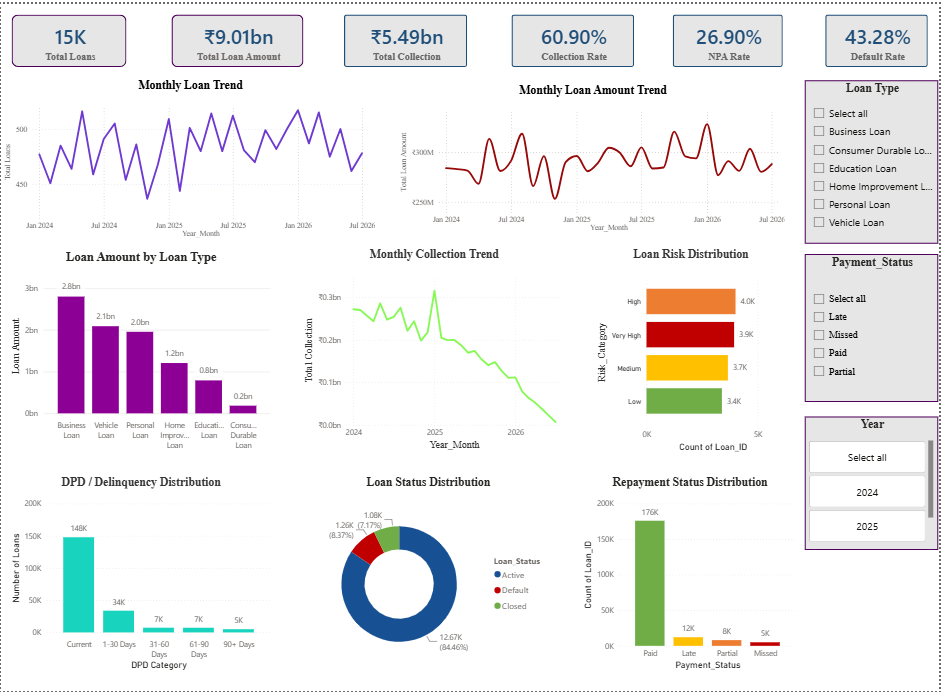

The page's visual inventory and layout, read from the dashboard file:
{"tool":"powerbi","page":{"name":"Executive Overview","canvas":[1500,1100],"ordinal":0},"visuals":[{"type":"cardVisual","fields":{"Data":["Loan.Total Loans"]},"box":[0,0,218.6,118.6],"z":0},{"type":"cardVisual","fields":{"Data":["Loan.Total Loan Amount"]},"box":[255.7,0,245,118.3],"z":1000},{"type":"cardVisual","fields":{"Data":["Repayment.Total Collection"]},"box":[532.9,0,231.7,118.3],"z":2000},{"type":"cardVisual","fields":{"Data":["Repayment.Collection Rate"]},"box":[800,0,230,118.6],"z":3000},{"type":"cardVisual","fields":{"Data":["Loan_Risk.NPA Rate"]},"box":[1058.6,0,210,118.6],"z":4000},{"type":"cardVisual","fields":{"Data":["Loan_Risk.Default Rate"]},"box":[1301.7,0,198.3,118.3],"z":5000},{"type":"lineChart","title":"Monthly Loan Trend","fields":{"Category":["Date.Year_Month"],"Y":["Loan.Total Loans"]},"box":[0,118.3,605,261.7],"z":6000},{"type":"lineChart","title":"Monthly Loan Amount Trend","fields":{"Category":["Date.Year_Month"],"Y":["Loan.Total Loan Amount"]},"box":[623.3,118.3,645,261.7],"z":7000},{"type":"donutChart","title":"Loan Status Distribution","fields":{"Category":["Loan.Loan_Status"],"Y":["CountNonNull(Loan.Loan_ID)"]},"box":[470,743.3,425.7,337.1],"z":8000},{"type":"clusteredBarChart","title":"Loan Risk Distribution","fields":{"Category":["Loan_Risk.Risk_Category"],"Y":["CountNonNull(Loan_Risk.Loan_ID)"]},"box":[938.3,380,330,351.7],"z":9000},{"type":"lineClusteredColumnComboChart","title":"Loan Amount by Loan Type","fields":{"Category":["Loan.Loan_Type"],"Y":["Sum(Loan.Loan_Amount)"]},"box":[0,383.3,446.7,348.3],"z":10000},{"type":"lineChart","title":"Monthly Collection Trend","fields":{"Category":["Date.Year_Month"],"Y":["Repayment.Total Collection"]},"box":[470,380,445,348.3],"z":11000},{"type":"clusteredColumnChart","title":"DPD / Delinquency Distribution","fields":{"Category":["Repayment.DPD Category"],"Y":["CountNonNull(Repayment.Loan_ID)"]},"box":[0,743.3,446.7,336.7],"z":12000},{"type":"clusteredColumnChart","title":"Repayment Status Distribution","fields":{"Category":["Repayment.Payment_Status"],"Y":["CountNonNull(Repayment.Loan_ID)"]},"box":[915,743.3,371.4,337.1],"z":13000},{"type":"advancedSlicerVisual","fields":{"Values":["Date.Year"]},"box":[1286.7,660,213.3,213.3],"z":14000},{"type":"slicer","title":"Loan Type","fields":{"Values":["Loan.Loan_Type"]},"box":[1286.7,121.7,213.3,261.7],"z":15000},{"type":"slicer","title":"Payment_Status","fields":{"Values":["Repayment.Payment_Status"]},"box":[1286.7,400,213.3,236.7],"z":16000}]}

Visuals, with their boxes in screenshot pixels (x1, y1, x2, y2), scaled from the page's 1500x1100 canvas onto the 941x692 screenshot:
cardVisual - Loan.Total Loans: x1=0, y1=0, x2=137, y2=75
cardVisual - Loan.Total Loan Amount: x1=160, y1=0, x2=314, y2=74
cardVisual - Repayment.Total Collection: x1=334, y1=0, x2=480, y2=74
cardVisual - Repayment.Collection Rate: x1=502, y1=0, x2=646, y2=75
cardVisual - Loan_Risk.NPA Rate: x1=664, y1=0, x2=796, y2=75
cardVisual - Loan_Risk.Default Rate: x1=817, y1=0, x2=940, y2=74
"Monthly Loan Trend" lineChart: x1=0, y1=74, x2=380, y2=239
"Monthly Loan Amount Trend" lineChart: x1=391, y1=74, x2=796, y2=239
"Loan Status Distribution" donutChart: x1=295, y1=468, x2=562, y2=680
"Loan Risk Distribution" clusteredBarChart: x1=589, y1=239, x2=796, y2=460
"Loan Amount by Loan Type" lineClusteredColumnComboChart: x1=0, y1=241, x2=280, y2=460
"Monthly Collection Trend" lineChart: x1=295, y1=239, x2=574, y2=458
"DPD / Delinquency Distribution" clusteredColumnChart: x1=0, y1=468, x2=280, y2=679
"Repayment Status Distribution" clusteredColumnChart: x1=574, y1=468, x2=807, y2=680
advancedSlicerVisual - Date.Year: x1=807, y1=415, x2=940, y2=549
"Loan Type" slicer: x1=807, y1=77, x2=940, y2=241
"Payment_Status" slicer: x1=807, y1=252, x2=940, y2=401
